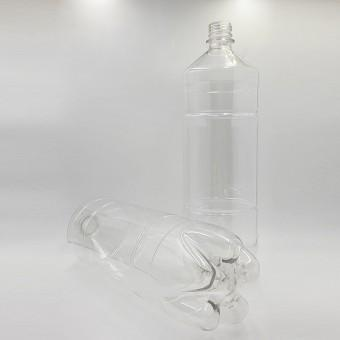bottle: (28, 188, 261, 332), (178, 16, 260, 258)
